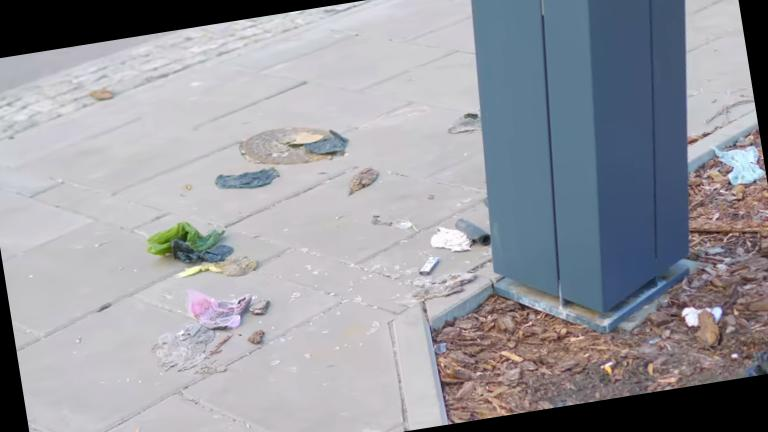trash: (150, 283, 292, 389), (117, 194, 260, 298), (420, 214, 494, 269), (208, 154, 286, 206), (712, 127, 768, 199), (300, 113, 354, 168), (438, 102, 494, 148), (672, 300, 730, 337), (84, 80, 134, 114), (400, 252, 448, 287), (340, 159, 378, 195), (733, 340, 768, 378)
